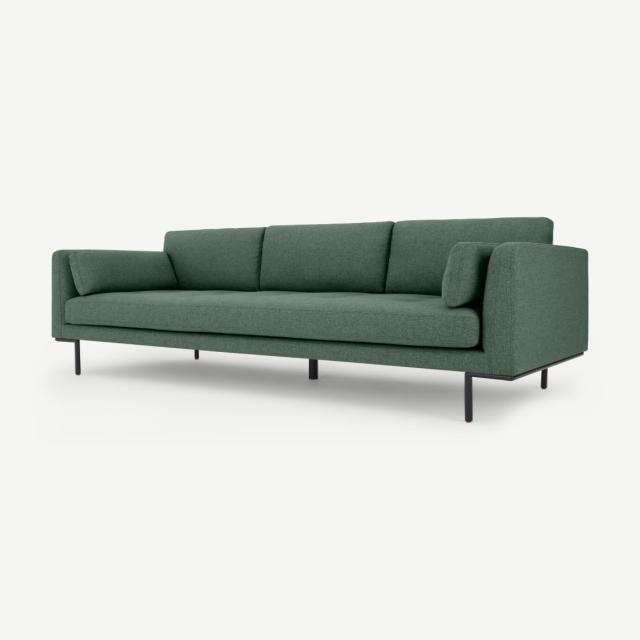back_cushion: (67, 219, 552, 307)
left_arm: (482, 242, 587, 376)
legs: (55, 339, 81, 375), (465, 374, 472, 421), (308, 359, 318, 379), (541, 369, 547, 389), (194, 350, 199, 359)
right_arm: (51, 250, 78, 337)
seat_cushion: (63, 290, 481, 349)
stallion-sofa: (0, 0, 639, 639)
